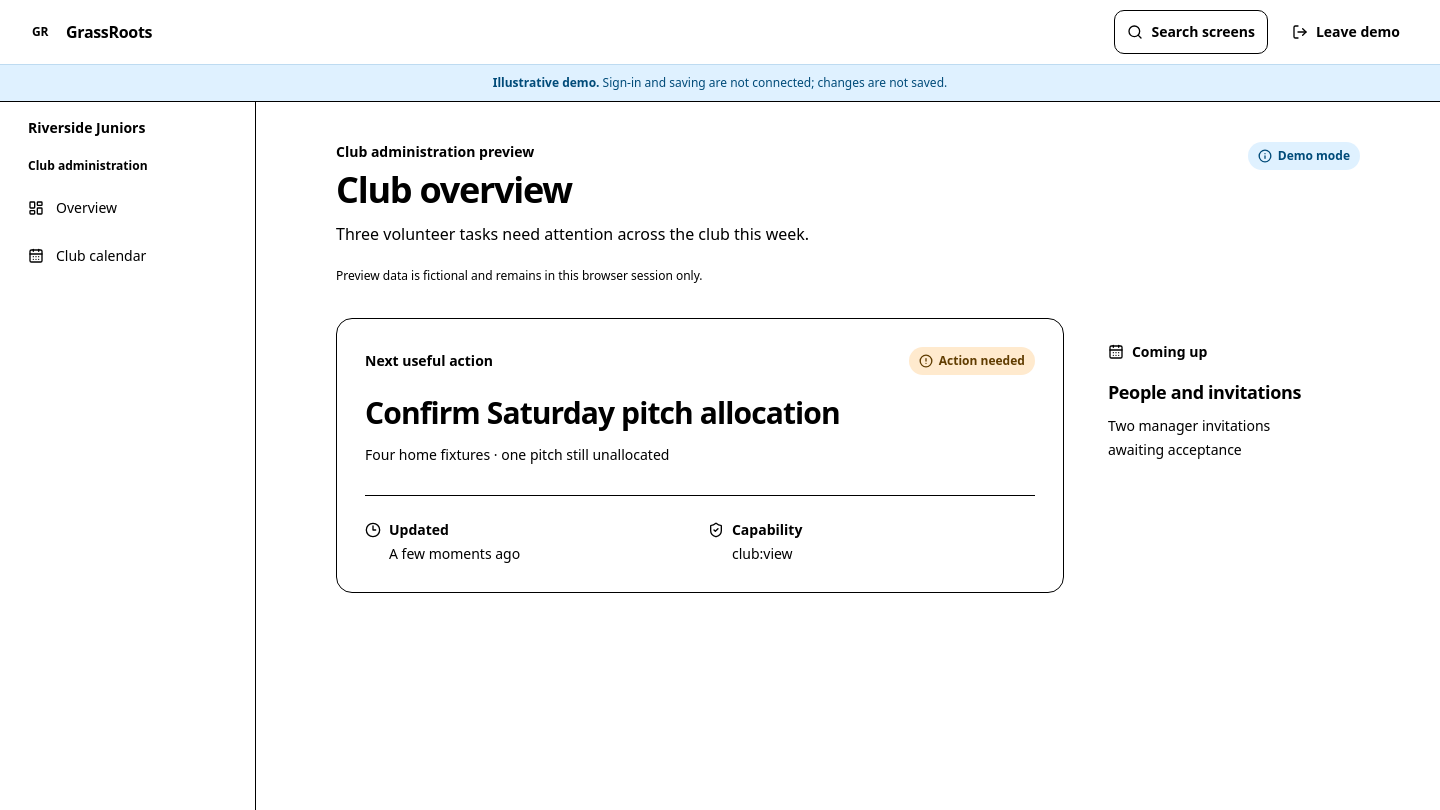
Scenario: illustrative application shell › removes denied same-role screens from navigation and search
Expected: the link "Safeguarding" is not shown
Click the button "Search screens" at (1191, 32), box [1114,10,1268,54]
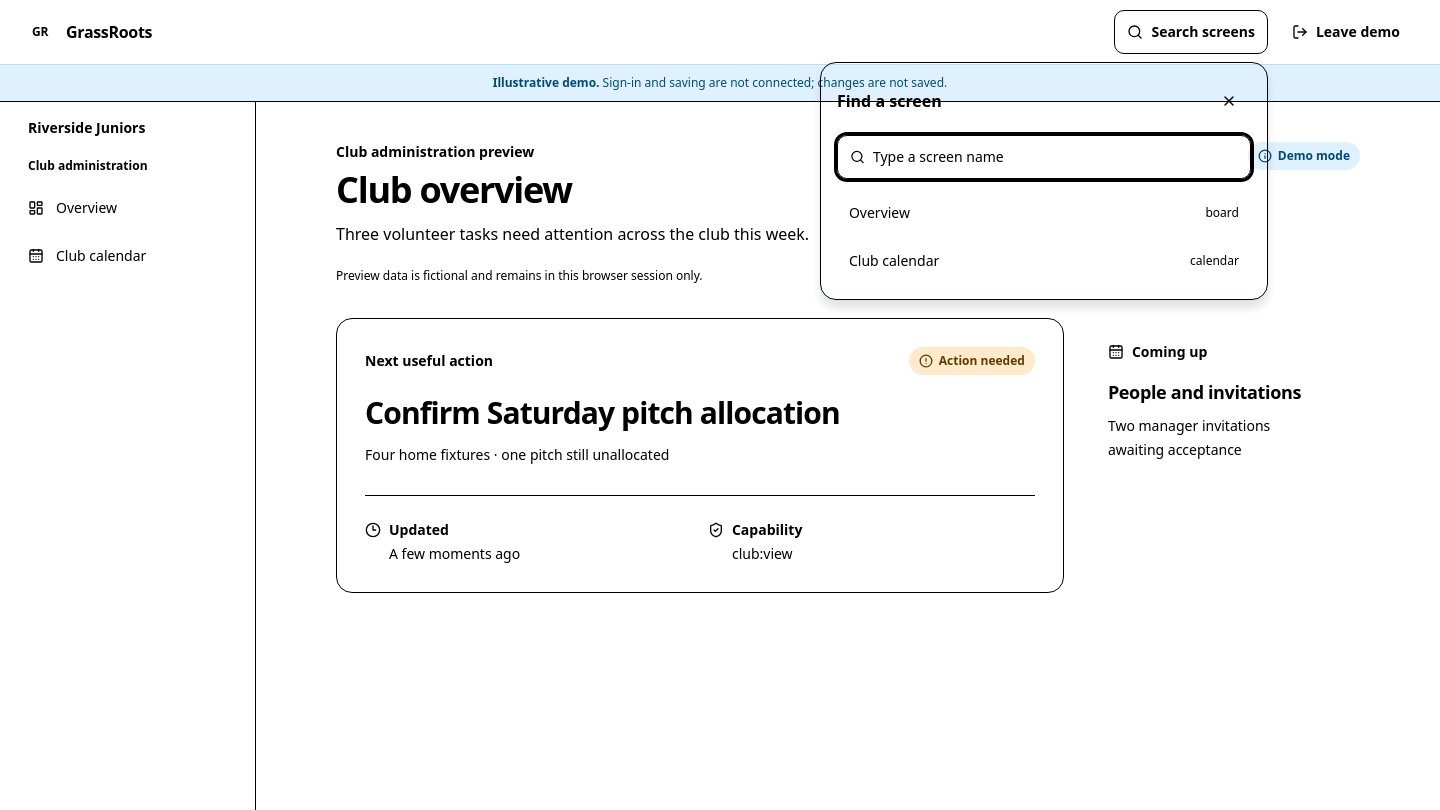
Type "safeguarding" into the search field at (1056, 157), box [873,147,1238,167]
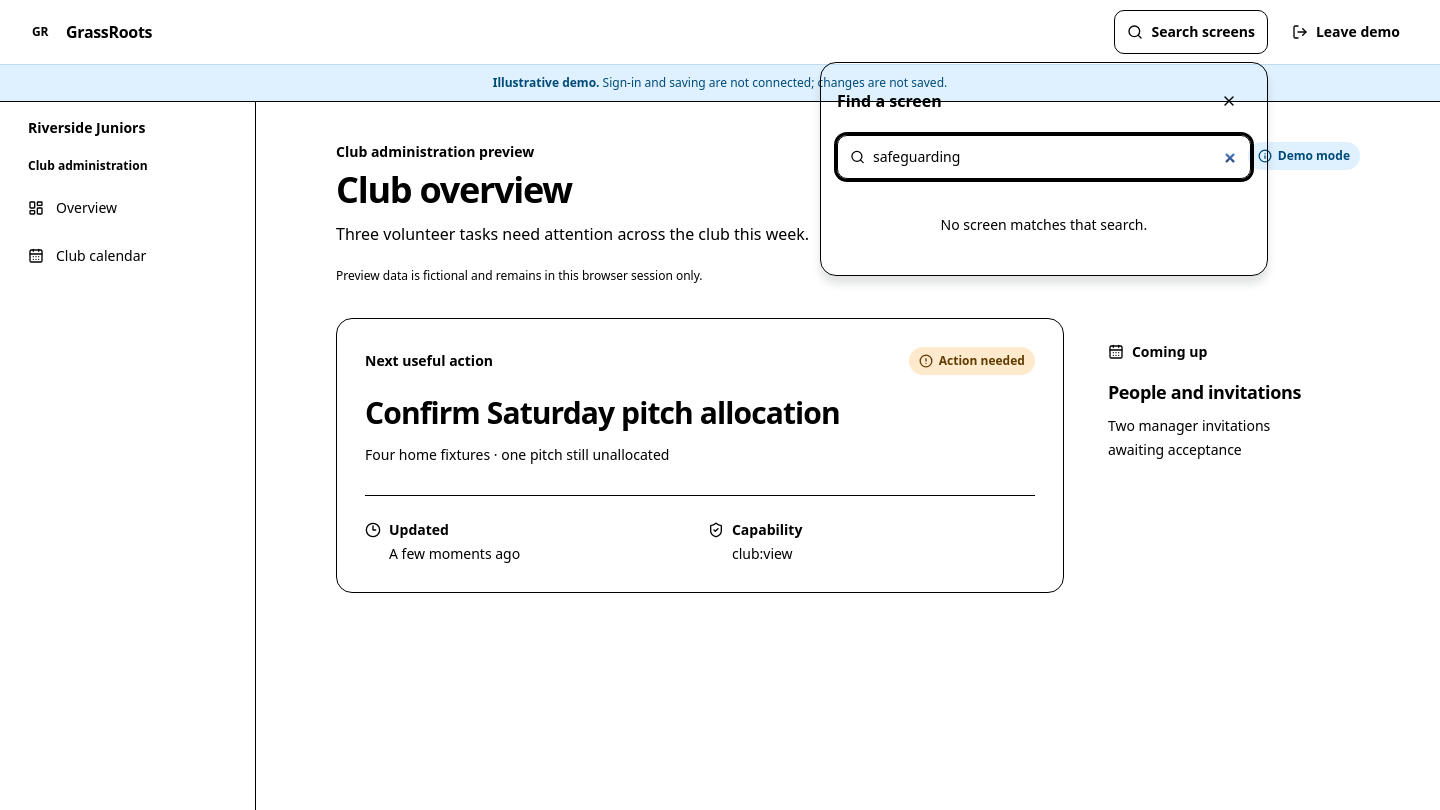
Expected: the text "No screen matches that search." is shown, [941,215,1147,234]
